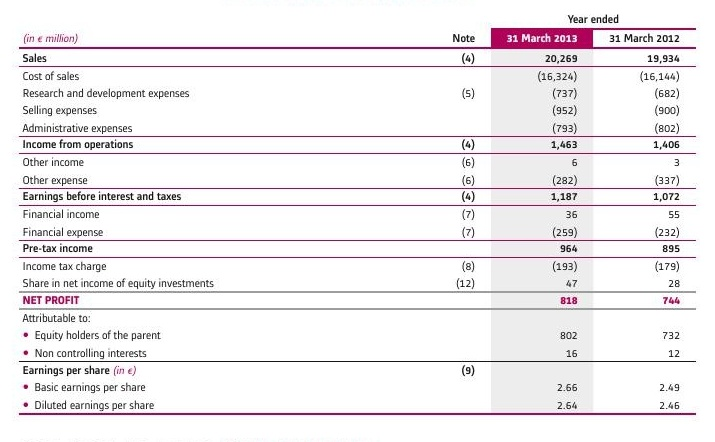table: (0, 0, 715, 442)
